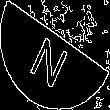N_NE: (31, 24, 79, 86)
